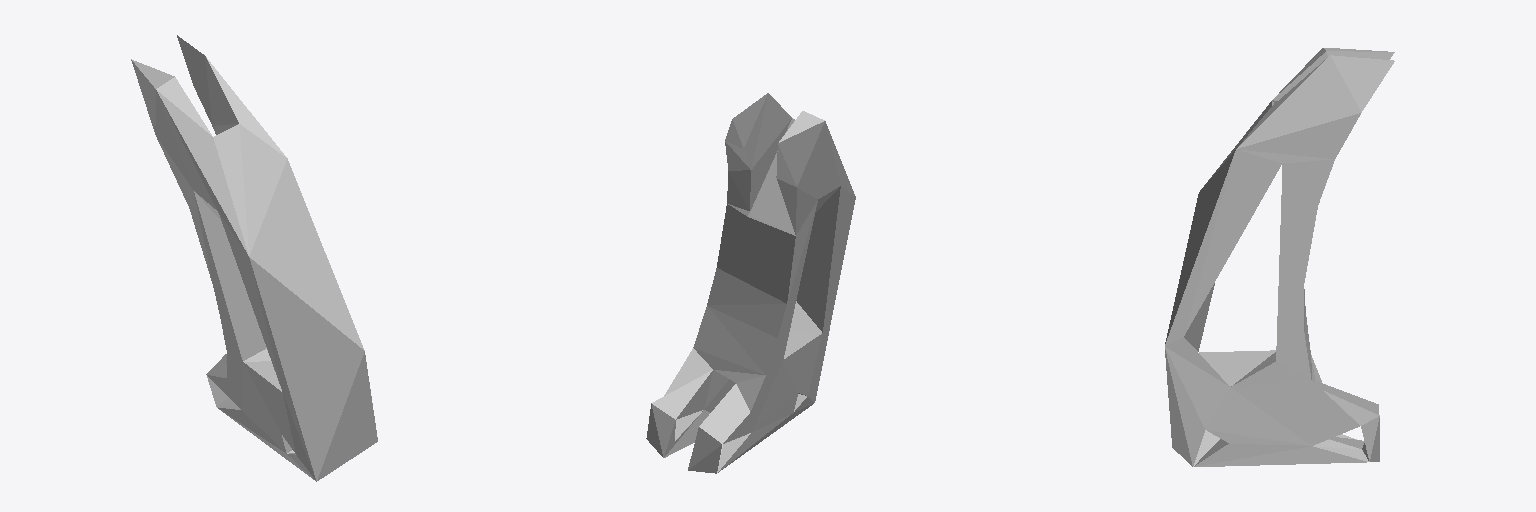
File: gripper_2.obj
3 views of the same model, side by side, from view 1: azimuth 30°, elevation 25°; view 2: azimuth 150°, elevation 25°; view 3: azimuth 270°, elevation 25° (orthographic).
Visible parts, largest first — view 1: pinza_2; view 2: pinza_2; view 3: pinza_2.
Boxes of the visible parts, x1,y1,x2,y2 form: pinza_2: [131, 35, 377, 481]; pinza_2: [646, 93, 855, 473]; pinza_2: [1165, 48, 1394, 466].
Size of the model in its own units: 0.0324 by 0.0741 by 0.0412.